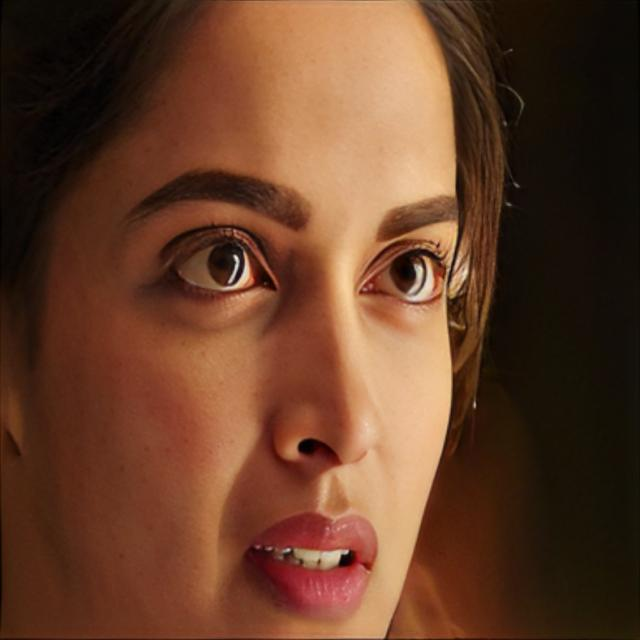disgust: (22, 0, 460, 640)
